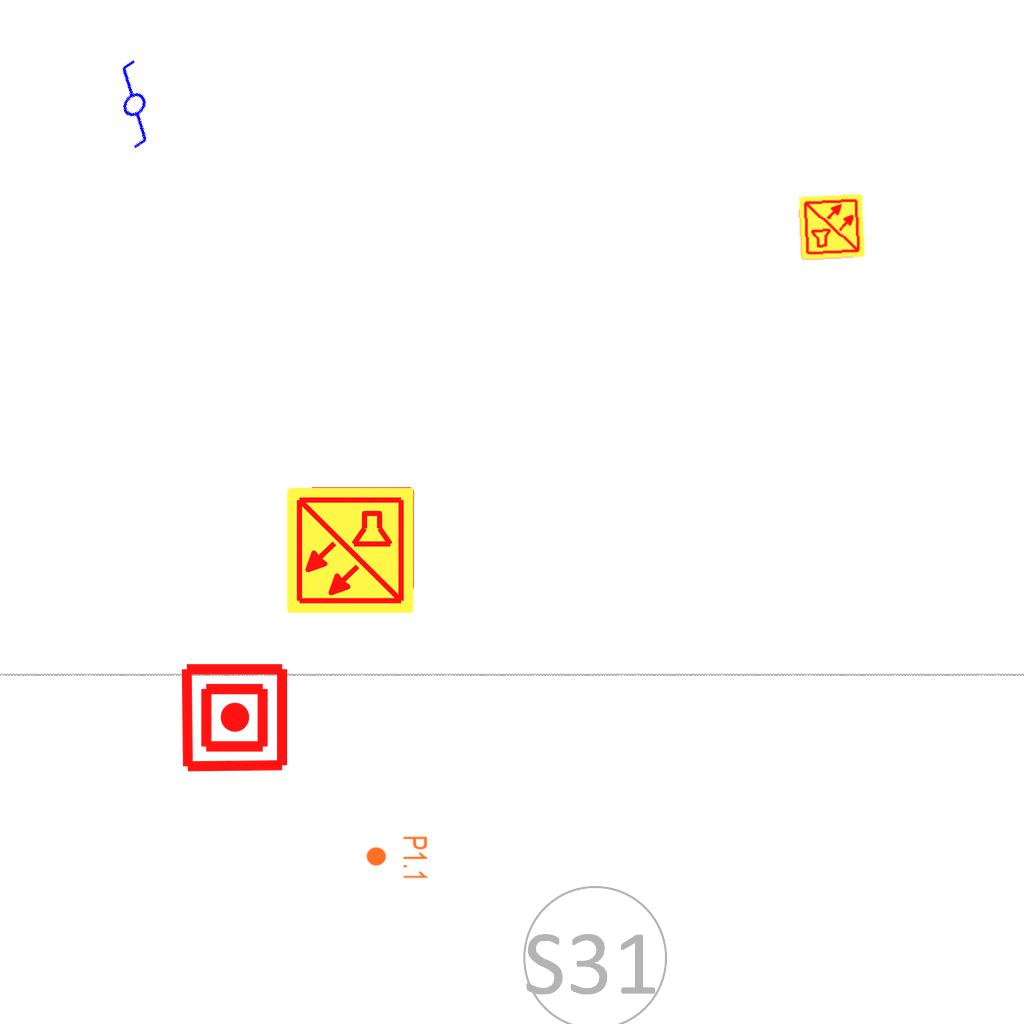Downlight_LED_Einbauleuchten_Flur: (365, 835, 429, 881)
NAM-Nichtautomatischer_Melder: (178, 661, 291, 774)
OKW_Multisensormelder_(Kombination_optischer_Rauch-Kahlenmonoxid_Waerme-Melder): (284, 484, 416, 616), (797, 192, 867, 262)
Wechselschalter: (78, 53, 184, 161)
